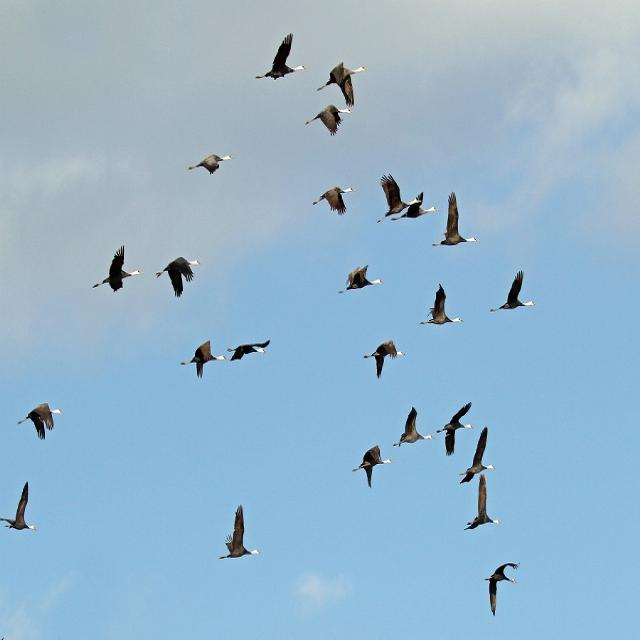bird: (431, 192, 480, 248), (376, 174, 432, 220), (94, 246, 146, 292), (318, 62, 370, 107), (255, 34, 308, 78), (222, 504, 262, 560), (484, 561, 522, 619), (350, 444, 395, 490), (491, 271, 538, 315), (154, 256, 200, 300), (436, 404, 474, 456), (466, 475, 502, 529), (179, 339, 225, 380), (460, 428, 494, 483), (362, 340, 406, 382), (20, 402, 66, 442), (1, 483, 36, 534), (422, 285, 466, 325), (303, 102, 345, 141), (311, 182, 355, 218), (341, 262, 386, 296), (393, 407, 432, 446), (187, 152, 234, 178), (227, 338, 272, 364)
